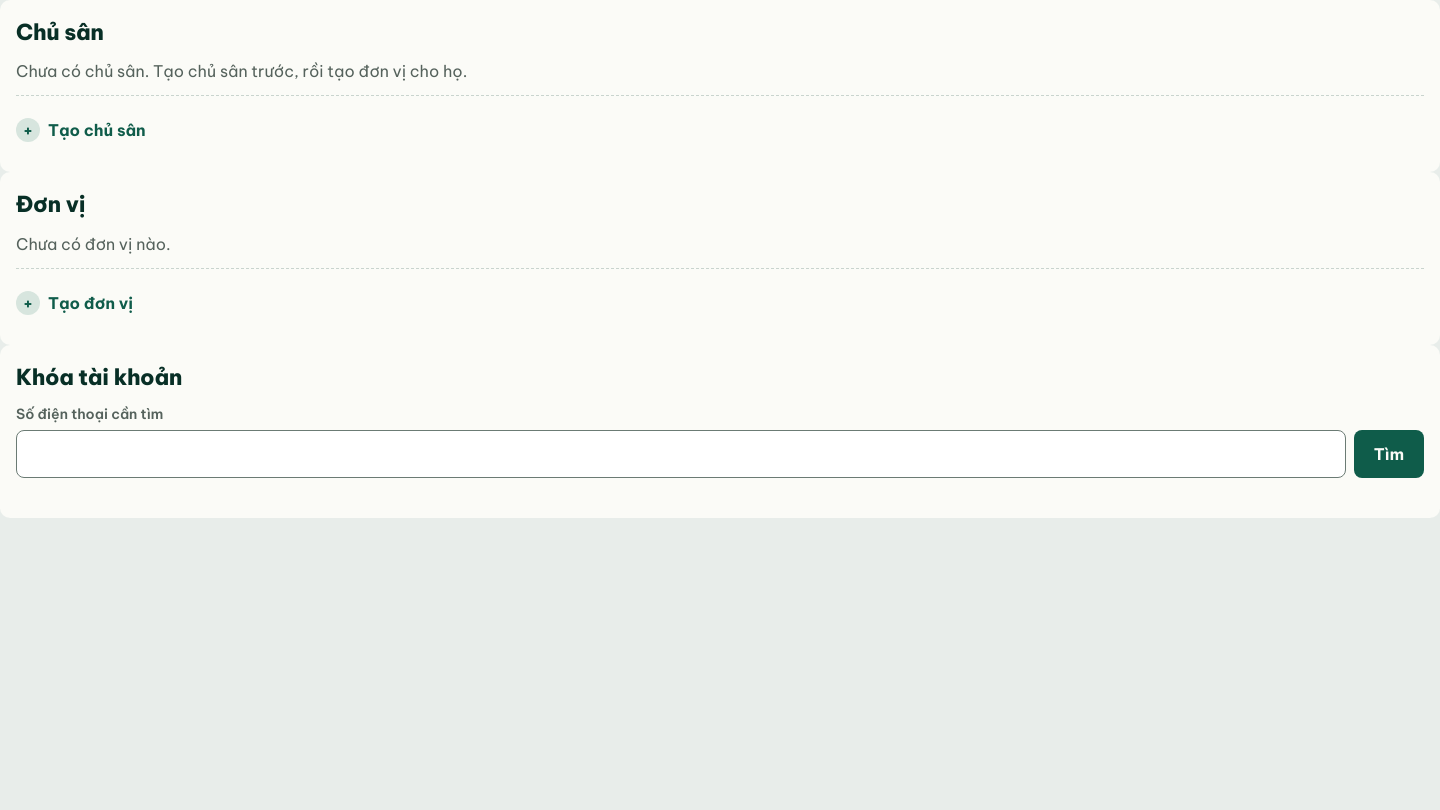
it: AdminPanel › shows no lock button for an admin account
The image size is (1440, 810).
In the field labelled "Số điện thoại cần tìm": (681, 454) [16,430,1346,478], type "0900000000"
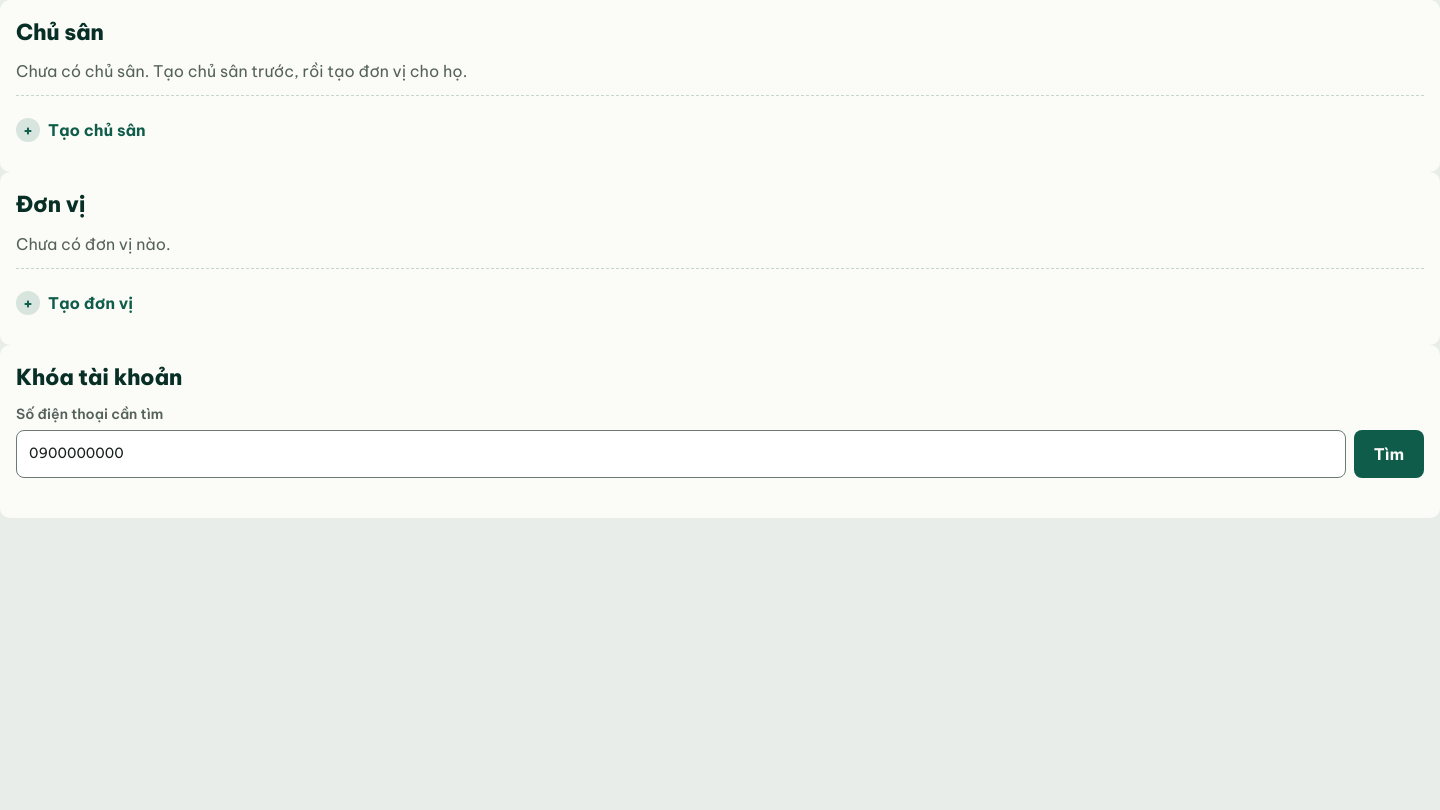
Click the button "Tìm": click(1389, 454) [1354,430,1424,478]
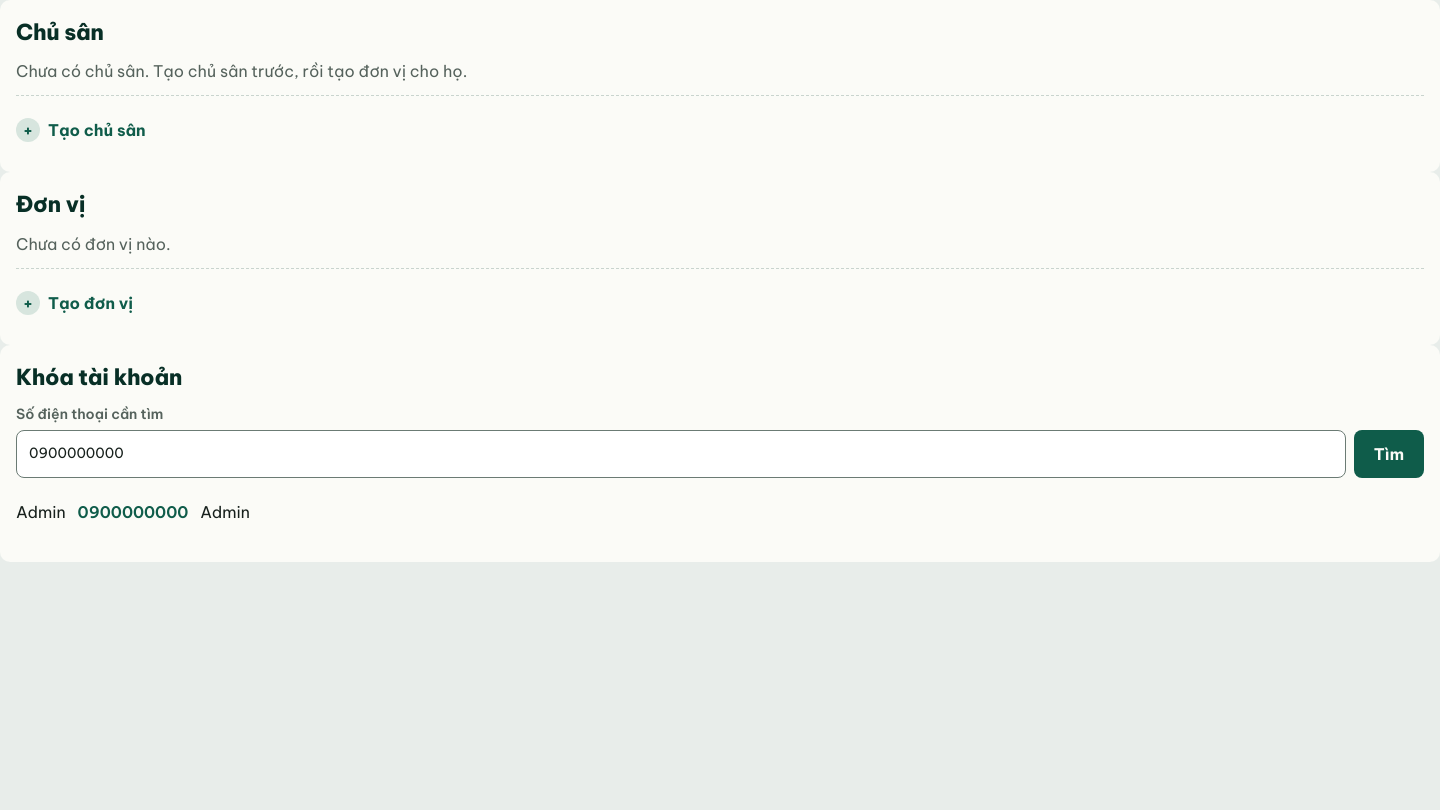
Now the text "0900000000" is shown, box [78,500,188,524]
